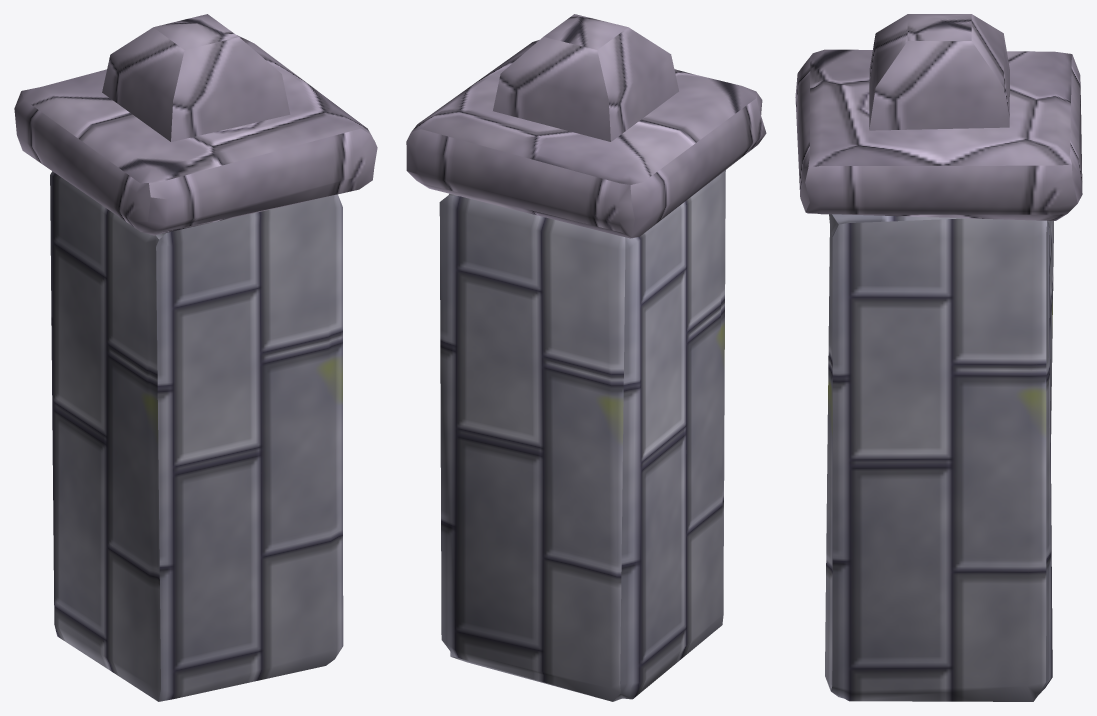
File: stone_pillar.gltf
3 renders of one model, left to right at view 1: azimuth 30°, elevation 25°; view 2: azimuth 150°, elevation 25°; view 3: azimuth 270°, elevation 25°, orthographic. The views are drawn at different scales.
Parts seen in each view (by area): view 1: stone_pillar_mesh; view 2: stone_pillar_mesh; view 3: stone_pillar_mesh.
Boxes of the visible parts, x1,y1,x2,y2 form: stone_pillar_mesh: (14,14,377,701); stone_pillar_mesh: (406,14,766,701); stone_pillar_mesh: (795,14,1082,701).
Size of what is drawn, in the model's own units: 0.6318 by 1.56 by 0.6335.
Materials: 3 (3 with a texture image).
